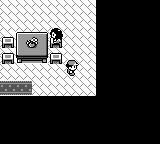main: (66, 60, 79, 76)
no-caminable: (0, 1, 159, 143), (16, 33, 48, 63)
npc: (50, 28, 63, 44)
puerta: (0, 79, 34, 96)
